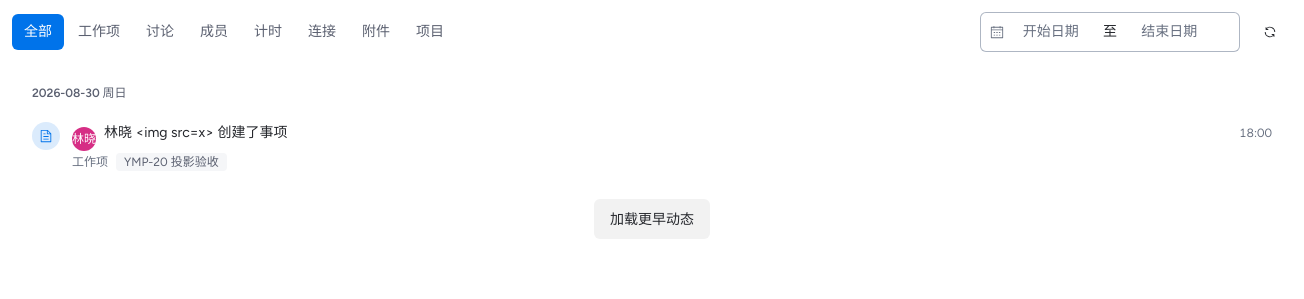
Test case: ActivityTimeline › 按公司时区分组、以纯文本渲染摘要并加载更早游标
Click the button with class "activity-timeline__older": [652, 219] box [594,199,710,239]
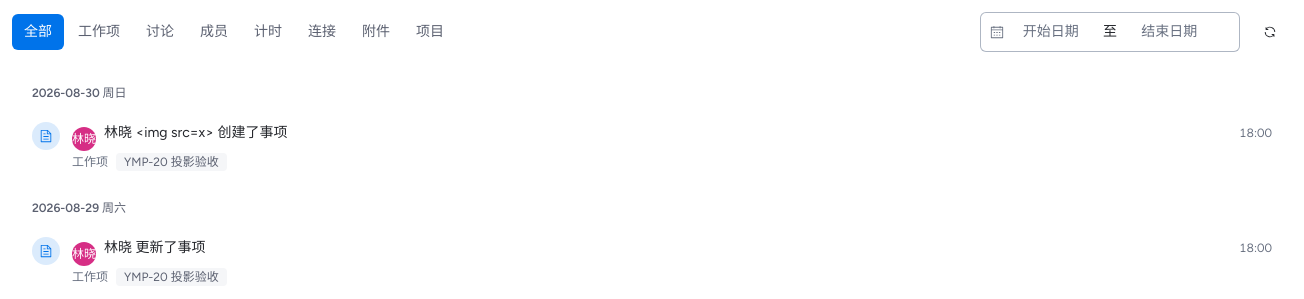
Check: the text "更新了事项" is shown, box [132,239,206,256]
